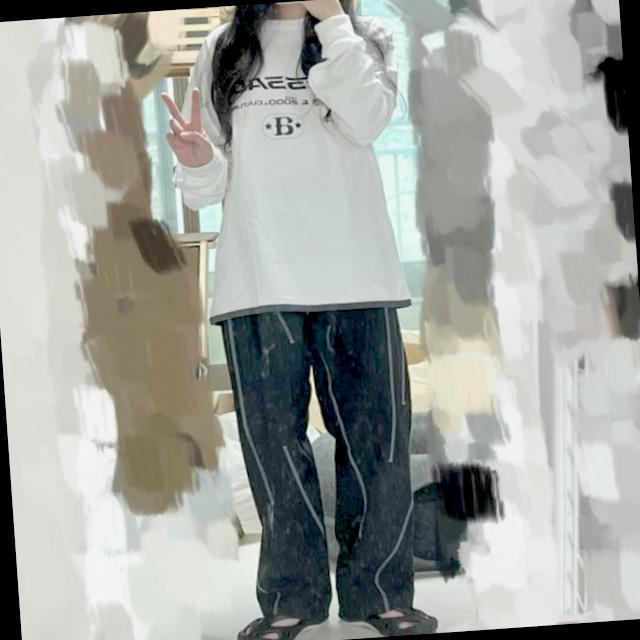denimpants: (220, 295, 426, 630)
longsleeve: (168, 2, 423, 320)
